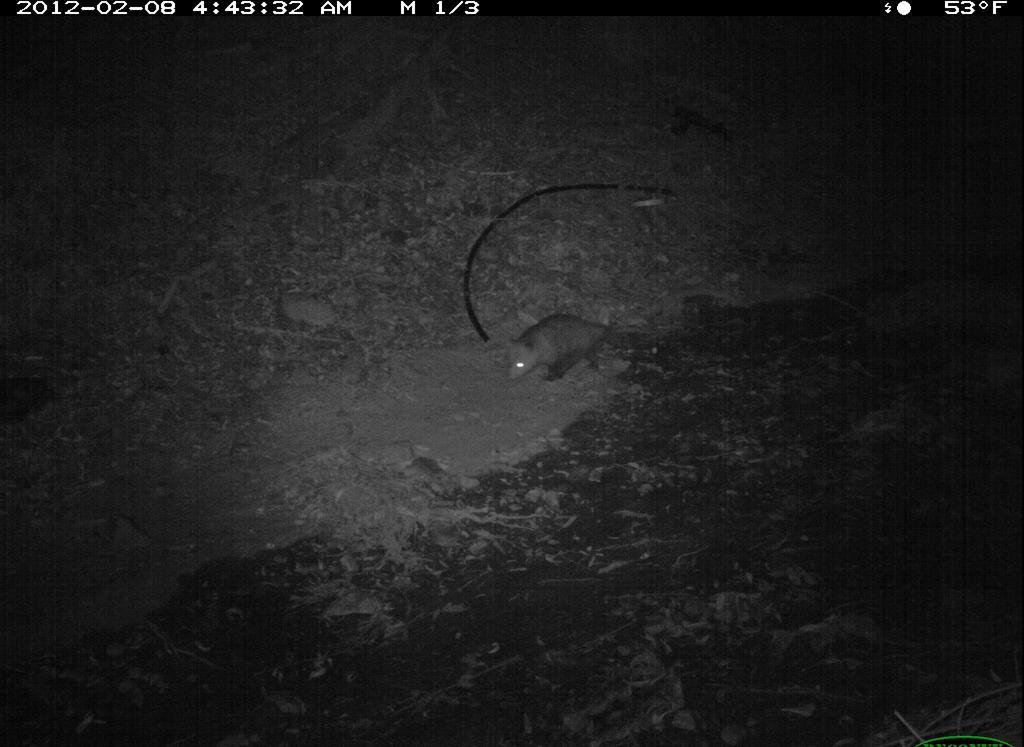opossum: (488, 297, 656, 388)
